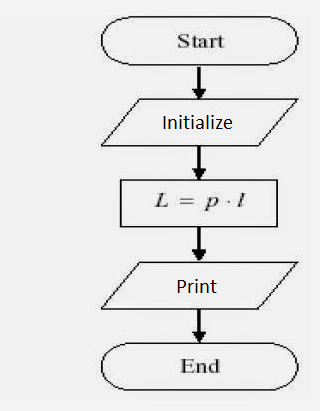arrow: (189, 224, 208, 261), (190, 305, 208, 344), (191, 142, 208, 179), (190, 63, 207, 98)
data: (99, 258, 298, 313), (99, 96, 300, 150), (117, 176, 281, 231)
terminator: (99, 13, 302, 69), (99, 339, 302, 394)
text: (152, 190, 248, 212), (160, 113, 234, 130), (176, 31, 227, 50), (177, 355, 220, 375), (174, 276, 218, 295)
